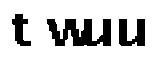t: (9, 10, 32, 50)
u: (117, 16, 150, 49), (85, 18, 112, 50)
w: (43, 16, 86, 51)
